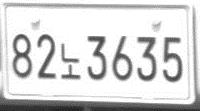2: (36, 33, 57, 78)
3: (136, 35, 158, 82), (85, 34, 106, 81)
5: (162, 36, 183, 82)
6: (111, 35, 133, 81)
8: (11, 33, 33, 78)
노: (60, 42, 81, 80)
